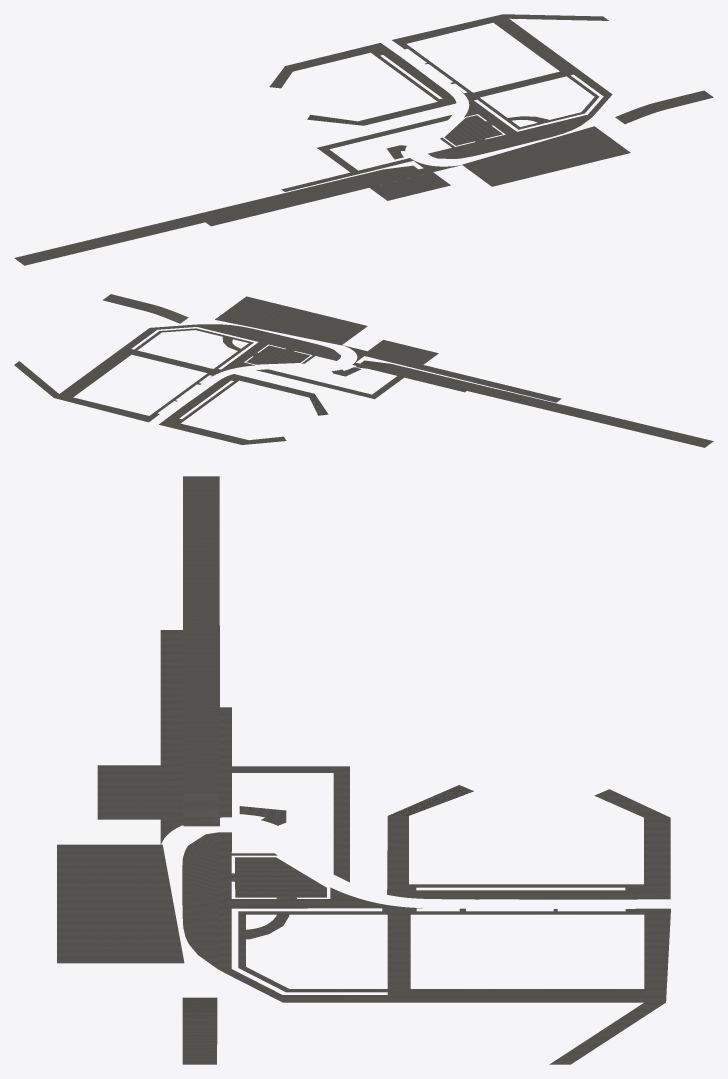
The model's file is west_rd.FBX.
The picture shows the model from 3 angles, top to bottom: view 1: azimuth 30°, elevation 25°; view 2: azimuth 150°, elevation 25°; view 3: azimuth 270°, elevation 25°; orthographic projection. The views are drawn at different scales.
Parts seen in each view (by area): view 1: west_rd01; view 2: west_rd01; view 3: west_rd01.
Boxes of the visible parts, bbox=[...] form: west_rd01: bbox=[14, 14, 713, 265]; west_rd01: bbox=[14, 294, 713, 447]; west_rd01: bbox=[57, 476, 670, 1064].
Bounding box in the file's own units: 1261 × 9.03 × 556.
